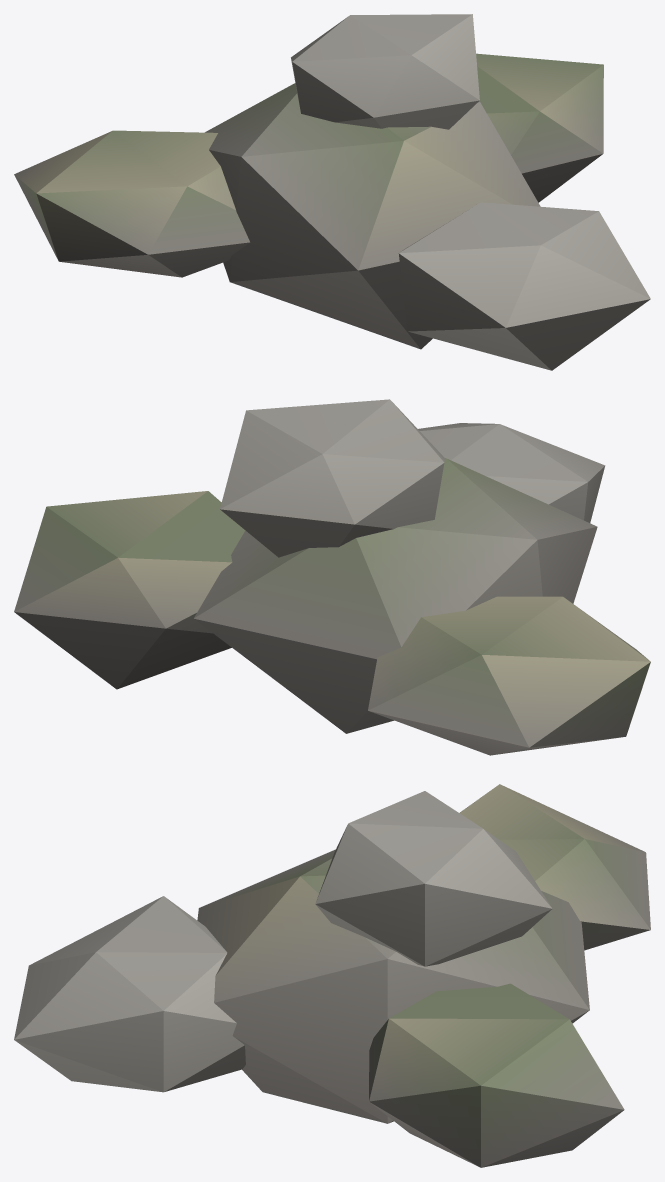
File: drop_stone_a.glb
The picture shows the model from 3 angles, top to bottom: view 1: azimuth 30°, elevation 25°; view 2: azimuth 150°, elevation 25°; view 3: azimuth 270°, elevation 25°; orthographic projection. The views are drawn at different scales.
Visible parts, largest first — view 1: drop_stone_a; view 2: drop_stone_a; view 3: drop_stone_a.
Part boxes in pixels (box(x1,y1,x2,y2)): drop_stone_a: box(14, 14, 650, 370); drop_stone_a: box(14, 399, 650, 755); drop_stone_a: box(14, 784, 650, 1167).
Size of the model in its own units: 0.3806 by 0.1682 by 0.3413.
